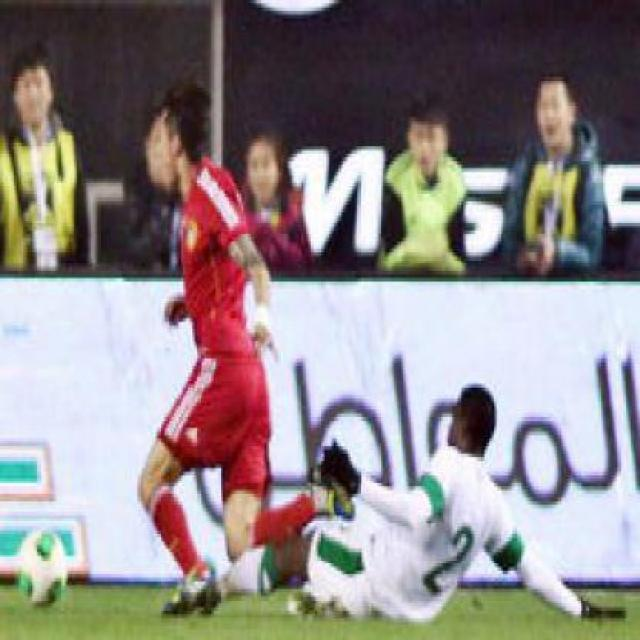fall: (223, 366, 617, 626)
